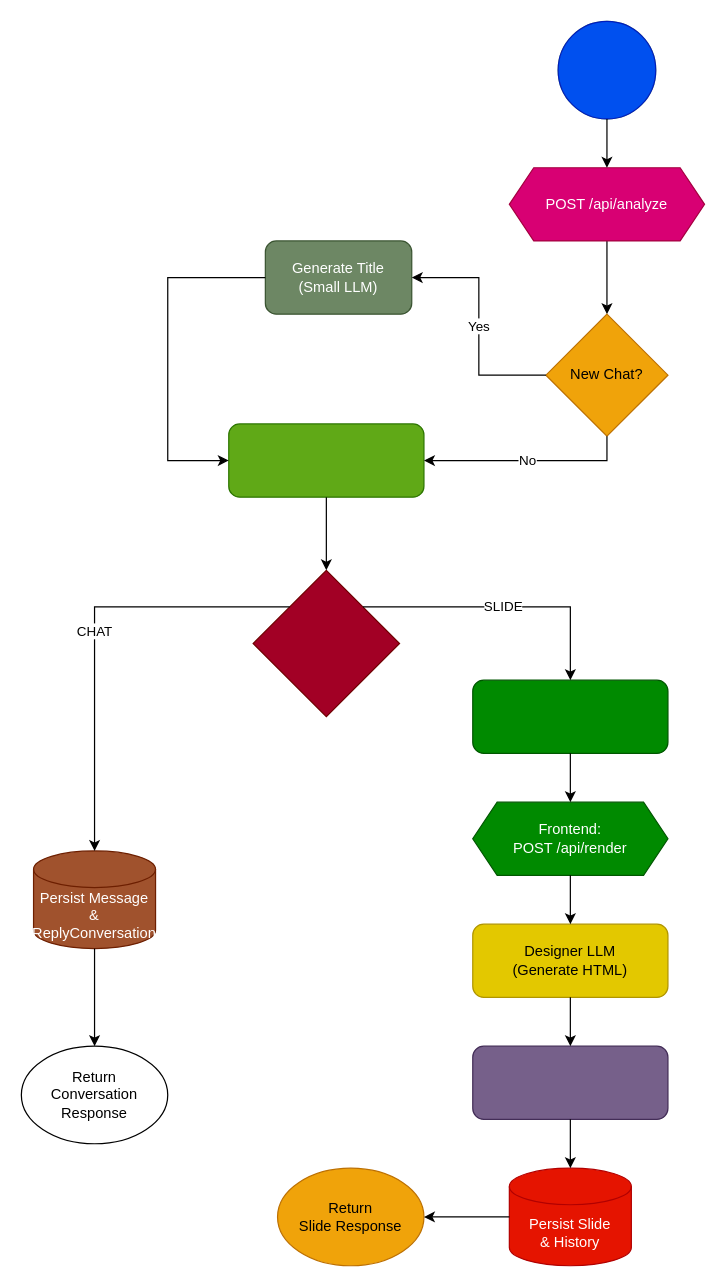
This 726x1287 diagram has some shape labels left out. The shapes that lost their labels are listed below. From the top down, each one's centre as x and y in pixels, then its label:
At point 606,69: "User Sends Request".
At point 326,460: "SlideService: Analyze Request (Call Architect LLM)".
At point 326,643: "Intent?".
At point 570,716: "Return Strategy (Intent: SLIDE)".
At point 570,1082: "Corrector LLM (QA & Fix)".
